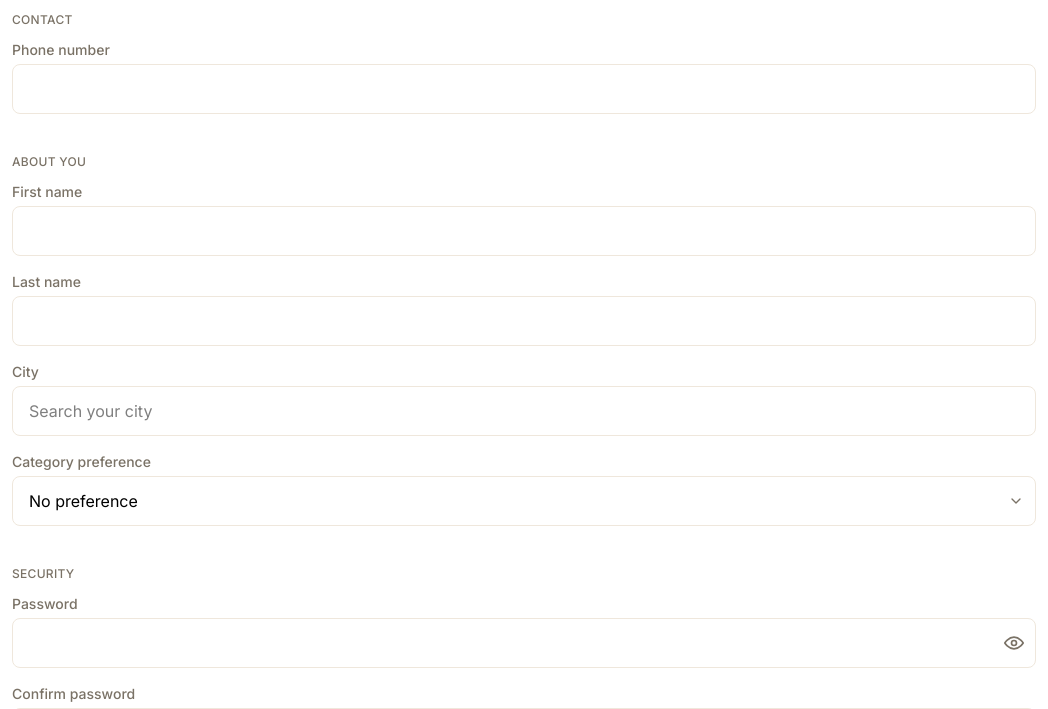
RegisterForm › shows the password strength meter while typing a password
Type "Abcdefg1" into the password field labelled "Password" at (524, 643), box x1=12 y1=618 x2=1036 y2=668
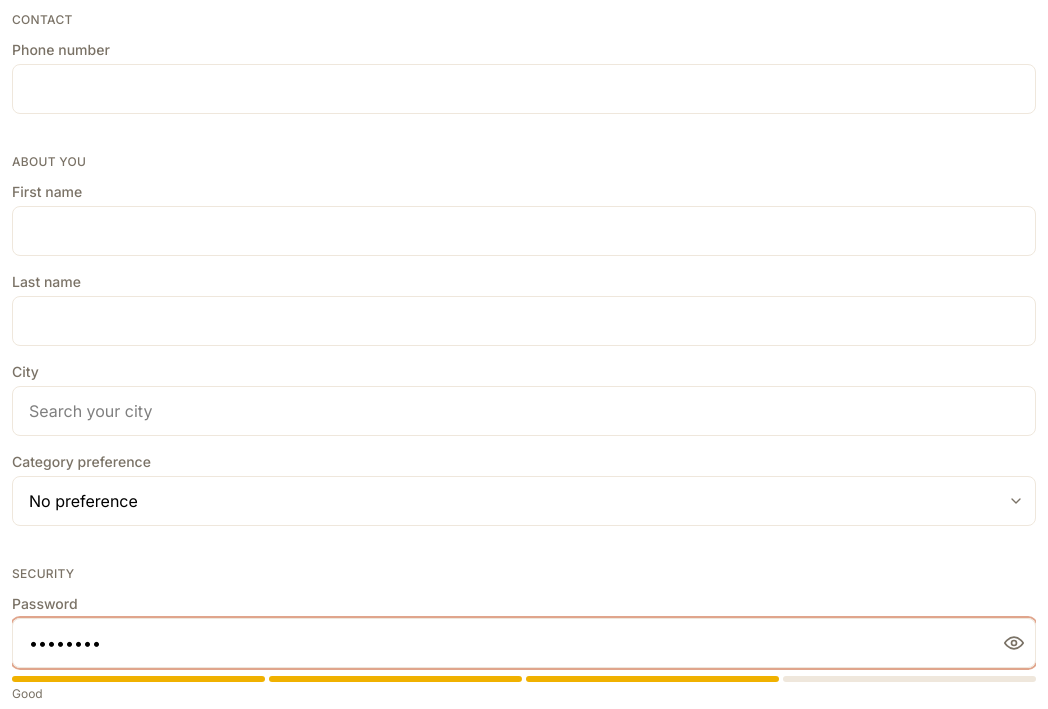
Expected: the element with test id "password-strength-meter" is shown, x1=12 y1=676 x2=1036 y2=702
